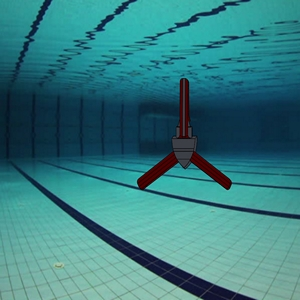submarine: (131, 72, 245, 193)
